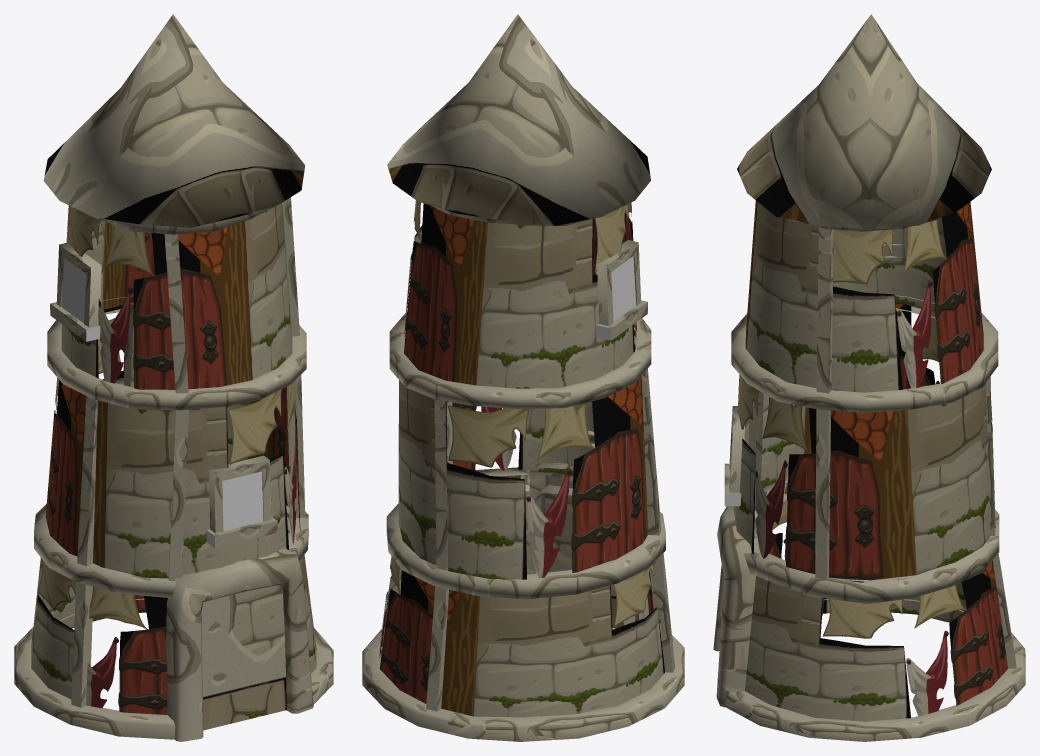
Rendered from Windmill.FBX.
3 renders of one model, left to right at view 1: azimuth 30°, elevation 25°; view 2: azimuth 150°, elevation 25°; view 3: azimuth 270°, elevation 25°, orthographic.
Visible parts, largest first — view 1: Mill; view 2: Mill; view 3: Mill.
Boxes of the visible parts, x1,y1,x2,y2 form: Mill: (14,14,333,741); Mill: (362,14,684,741); Mill: (713,14,1025,741).
Size of the model in its own units: 4.42 by 9.88 by 4.23.
